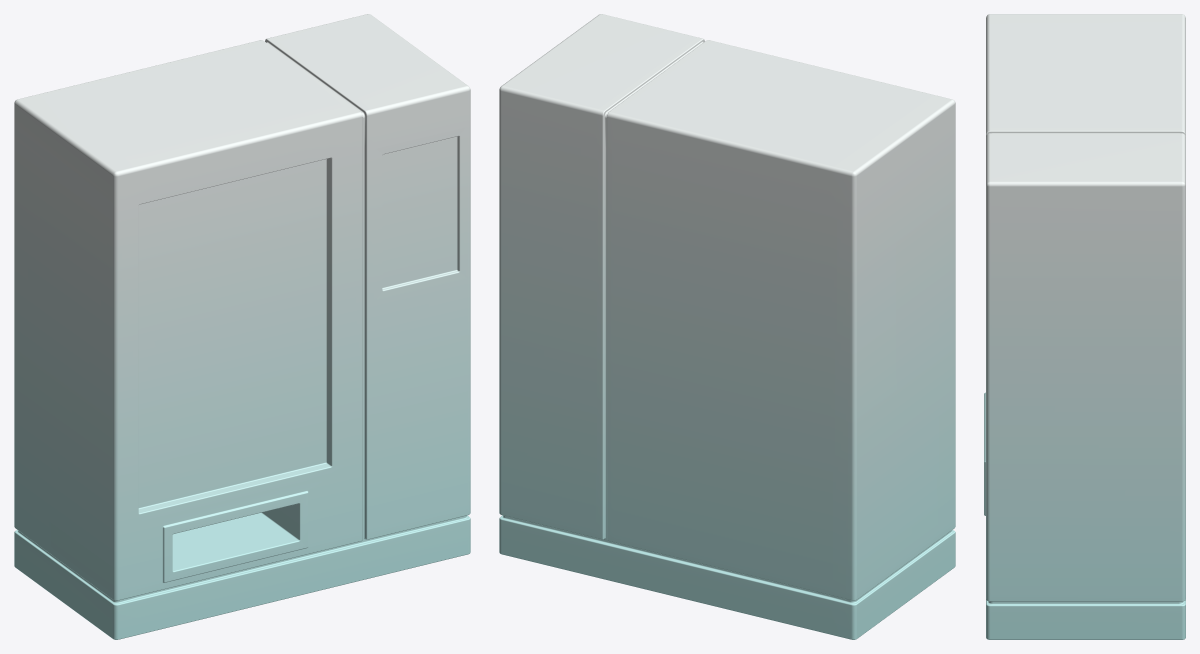
Rendered from VendingMachine.fbx.
The picture shows the model from 3 angles, left to right: view 1: azimuth 30°, elevation 25°; view 2: azimuth 150°, elevation 25°; view 3: azimuth 270°, elevation 25°; orthographic projection. The views are drawn at different scales.
Parts seen in each view (by area): view 1: VendingMachine; view 2: VendingMachine; view 3: VendingMachine.
Boxes of the visible parts, <box> form: VendingMachine: <box>14,14,470,639</box>; VendingMachine: <box>499,14,955,639</box>; VendingMachine: <box>984,14,1185,639</box>.
Bounding box in the file's own units: 200 × 250 × 100.
Materials: 1 (1 with a texture image).
